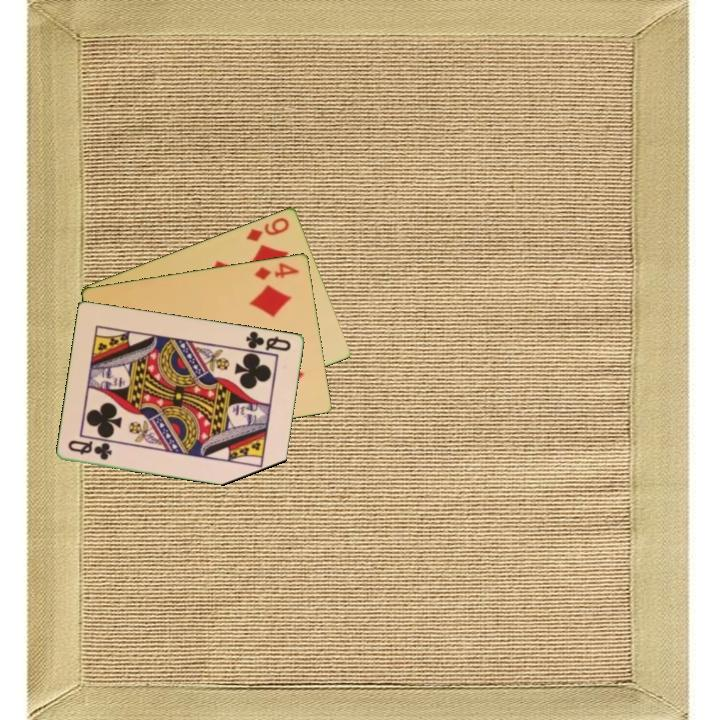4d: (251, 259, 302, 283)
9d: (242, 213, 292, 244)
Qc: (242, 327, 294, 354), (65, 436, 115, 463)
